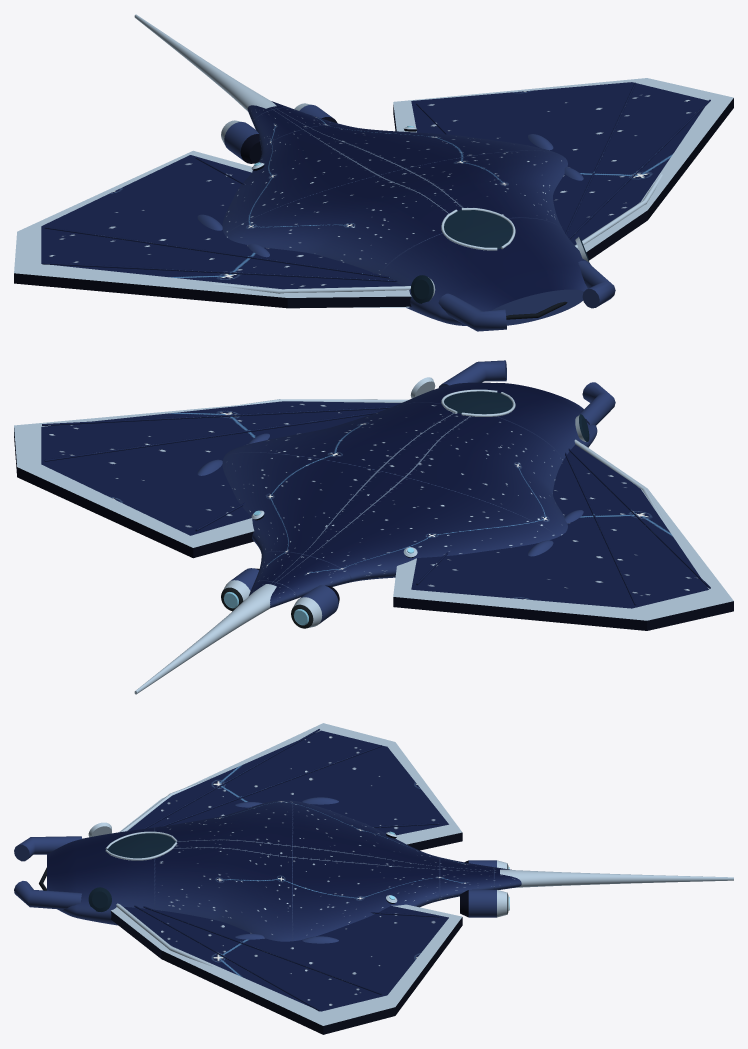
3 views of the same model, one above another, from view 1: azimuth 30°, elevation 25°; view 2: azimuth 150°, elevation 25°; view 3: azimuth 270°, elevation 25° (orthographic). The views are drawn at different scales.
Visible parts, largest first — view 1: manta_ray_hull; view 2: manta_ray_hull; view 3: manta_ray_hull.
Boxes of the visible parts, x1,y1,x2,y2 form: manta_ray_hull: (14, 14, 733, 331); manta_ray_hull: (14, 360, 733, 694); manta_ray_hull: (14, 723, 733, 1034).
Bounding box in the file's own units: 255 × 28.67 × 256.
1 material, 1 textured.
